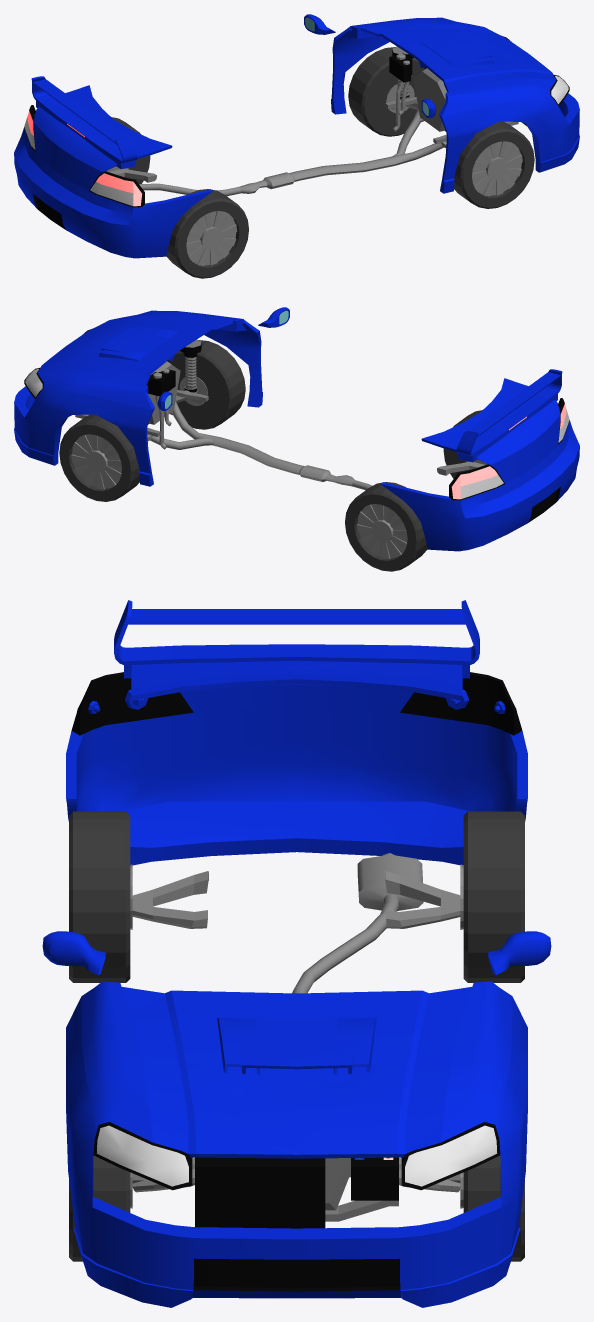
The model's file is Subaru_parts.fbx.
3 renders of one model, top to bottom at view 1: azimuth 30°, elevation 25°; view 2: azimuth 150°, elevation 25°; view 3: azimuth 270°, elevation 25°, orthographic. The views are drawn at different scales.
Visible parts, largest first — view 1: FrontSideLeft, BackBumper.001, FR, RR, Trunk, FL, Hood.001, Spoiler.001, HoodLvl2, Rurawydechowa, Engine, BackLightRight (+8 smaller); view 2: FrontSideLeft, BackBumper.001, FL, RL, Trunk, FR, Hood.001, Spoiler.001, HoodLvl2, Engine, Rurawydechowa, BackLightLeft (+8 smaller); view 3: BackBumper.001, FrontBumper.001, Hood.001, FrontSideLeft, HoodLvl2, Trunk, Spoiler.001, Plyny, RL, RR, HoodLvl3, RearAxe (+10 smaller).
Part boxes in pixels (bbox=[...]): FrontSideLeft: bbox=[331, 17, 569, 193]; BackBumper.001: bbox=[14, 128, 212, 258]; FR: bbox=[454, 121, 534, 208]; RR: bbox=[166, 189, 248, 278]; Trunk: bbox=[33, 85, 172, 190]; FL: bbox=[348, 47, 424, 136]; Hood.001: bbox=[361, 23, 553, 92]; Spoiler.001: bbox=[31, 76, 137, 169]; HoodLvl2: bbox=[362, 23, 555, 91]; Rurawydechowa: bbox=[139, 156, 397, 196]; Engine: bbox=[385, 46, 518, 148]; BackLightRight: bbox=[89, 171, 144, 207]; FrontSideLeft: bbox=[24, 310, 262, 486]; BackBumper.001: bbox=[381, 421, 579, 551]; FL: bbox=[59, 414, 139, 501]; RL: bbox=[345, 482, 427, 571]; Trunk: bbox=[421, 378, 560, 483]; FR: bbox=[169, 340, 245, 429]; Hood.001: bbox=[40, 316, 232, 385]; Spoiler.001: bbox=[456, 369, 562, 462]; HoodLvl2: bbox=[38, 316, 231, 384]; Engine: bbox=[75, 339, 208, 441]; Rurawydechowa: bbox=[213, 437, 372, 490]; BackLightLeft: bbox=[449, 464, 504, 500]; BackBumper.001: bbox=[66, 708, 527, 865]; FrontBumper.001: bbox=[76, 1197, 517, 1307]; Hood.001: bbox=[129, 994, 464, 1157]; FrontSideLeft: bbox=[66, 981, 527, 1271]; HoodLvl2: bbox=[121, 987, 472, 1158]; Trunk: bbox=[131, 660, 462, 712]; Spoiler.001: bbox=[114, 600, 479, 678]; Plyny: bbox=[195, 1157, 398, 1228]; RL: bbox=[463, 811, 524, 982]; RR: bbox=[69, 811, 130, 982]; HoodLvl3: bbox=[137, 1017, 456, 1158]; RearAxe: bbox=[132, 871, 460, 928].
Size of the model in its own units: 206 by 473 by 132.
